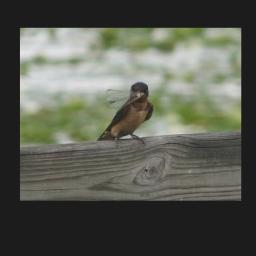Swallow: (96, 81, 153, 149)
